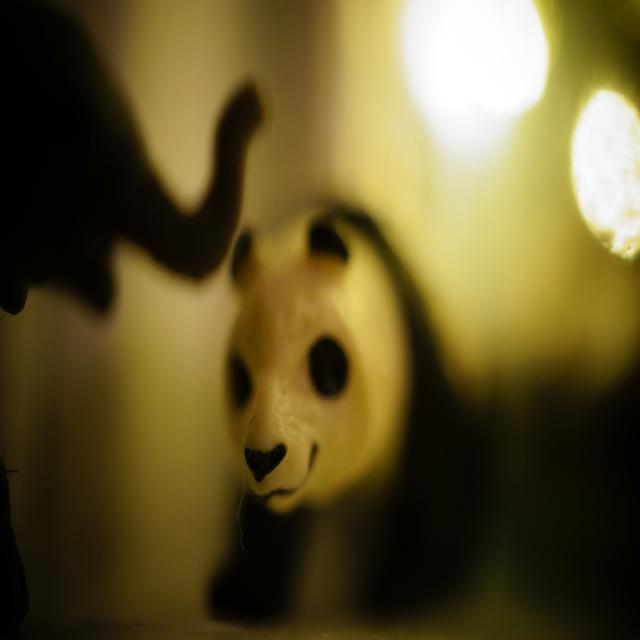panda: (214, 178, 426, 551)
